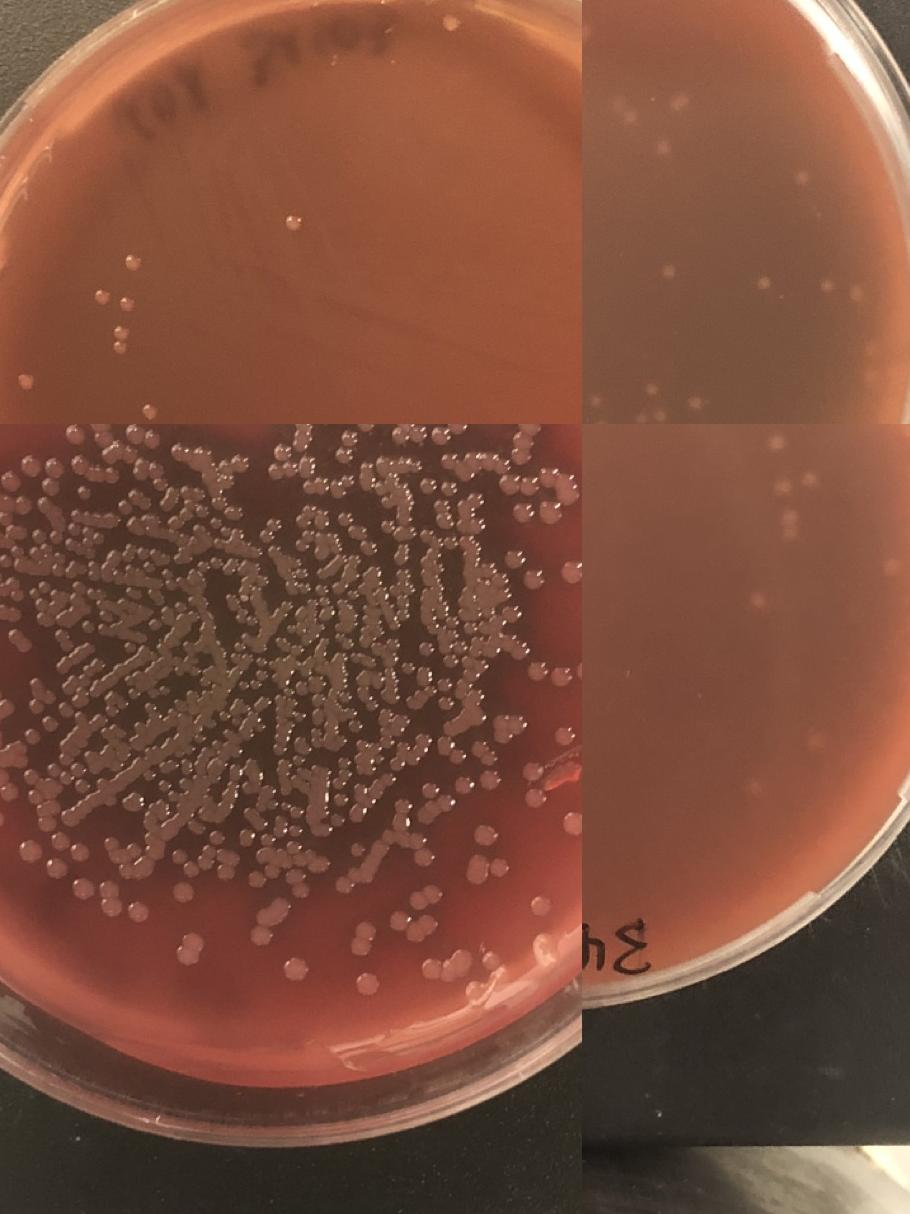pdpiscicida: (609, 90, 642, 126), (630, 404, 674, 424), (110, 321, 133, 358), (790, 166, 812, 190), (783, 510, 799, 542), (123, 252, 146, 274), (116, 290, 138, 313), (441, 14, 463, 36), (284, 214, 306, 236), (89, 286, 111, 308), (14, 370, 36, 392), (139, 400, 161, 422), (668, 90, 690, 112), (655, 136, 677, 158), (657, 261, 679, 283), (753, 272, 775, 294), (847, 284, 869, 306), (638, 378, 660, 400), (684, 390, 706, 412), (582, 386, 603, 409), (818, 272, 838, 294), (588, 416, 626, 424), (809, 734, 825, 752), (747, 778, 763, 795), (751, 592, 766, 610), (582, 23, 594, 45), (882, 558, 898, 574), (774, 479, 789, 496), (802, 472, 816, 490), (769, 435, 785, 450)
vangil: (495, 460, 580, 506), (170, 828, 226, 879), (160, 485, 209, 530), (45, 751, 91, 795), (417, 780, 456, 826), (430, 479, 462, 531), (422, 950, 473, 982), (476, 604, 522, 639), (67, 508, 105, 550), (390, 910, 438, 943), (388, 570, 416, 623), (465, 854, 510, 886), (37, 458, 64, 511), (439, 452, 484, 481), (70, 456, 118, 482), (268, 443, 300, 481), (511, 424, 540, 465), (216, 456, 250, 490), (492, 714, 527, 746), (436, 734, 469, 766), (61, 797, 95, 828), (296, 504, 317, 554), (252, 907, 278, 947), (245, 864, 281, 890), (407, 884, 443, 910), (117, 488, 152, 514), (498, 632, 528, 662), (440, 652, 480, 674), (351, 921, 376, 956), (28, 688, 58, 717), (469, 739, 499, 768), (0, 749, 28, 780), (124, 424, 160, 448), (334, 428, 358, 464), (435, 673, 456, 714), (389, 424, 427, 446), (431, 424, 468, 446), (177, 933, 202, 965), (420, 530, 456, 552), (100, 880, 120, 918), (28, 581, 52, 610), (7, 627, 33, 653), (102, 834, 124, 862), (412, 731, 433, 759), (286, 823, 304, 855), (18, 838, 42, 862), (70, 877, 94, 901), (284, 958, 308, 982), (260, 516, 282, 542), (332, 474, 355, 498), (0, 545, 24, 568), (537, 502, 561, 524), (88, 424, 112, 445), (0, 685, 16, 716), (6, 576, 24, 602), (562, 560, 582, 583), (163, 574, 188, 592), (22, 455, 42, 476), (514, 504, 534, 525), (393, 796, 414, 816), (293, 430, 312, 452), (133, 456, 149, 482), (314, 584, 331, 608), (66, 425, 86, 445), (419, 475, 439, 495), (12, 496, 32, 516), (334, 508, 354, 528), (358, 538, 378, 558), (506, 548, 526, 568), (524, 571, 544, 591), (416, 639, 436, 659), (398, 658, 418, 678), (552, 667, 572, 687), (381, 685, 401, 705), (480, 770, 500, 790), (454, 776, 474, 796), (526, 788, 546, 808), (347, 804, 367, 824), (416, 846, 436, 866), (215, 863, 235, 883), (174, 883, 194, 903), (480, 950, 500, 970), (357, 974, 377, 994), (3, 472, 22, 492), (466, 492, 486, 511), (523, 762, 543, 781), (236, 829, 256, 848), (334, 875, 354, 894), (467, 985, 487, 1004), (526, 662, 546, 680), (309, 708, 327, 728), (556, 727, 574, 747), (332, 790, 350, 810), (477, 826, 497, 844), (348, 841, 366, 861), (48, 858, 66, 878), (292, 880, 310, 900), (532, 895, 550, 915), (25, 788, 44, 806), (70, 843, 88, 862), (565, 813, 582, 833), (130, 902, 147, 922), (224, 506, 242, 524), (58, 701, 76, 719), (24, 728, 42, 746), (23, 768, 41, 786), (38, 814, 56, 832), (52, 832, 70, 850), (126, 792, 142, 812), (41, 716, 59, 733), (0, 783, 17, 801), (288, 804, 305, 822), (132, 720, 148, 738), (388, 756, 404, 774), (88, 758, 104, 776), (329, 812, 345, 830), (119, 862, 135, 880), (172, 443, 188, 460), (122, 639, 138, 656), (90, 657, 106, 674), (141, 767, 157, 784), (178, 775, 194, 792), (189, 819, 205, 836), (259, 832, 275, 849), (7, 606, 22, 624), (106, 702, 120, 720), (349, 720, 365, 734), (158, 762, 174, 776), (166, 790, 182, 804), (409, 459, 423, 474), (372, 482, 387, 496), (380, 496, 394, 511), (128, 842, 142, 857), (303, 480, 317, 494), (78, 485, 92, 499), (209, 516, 223, 530), (126, 518, 140, 532), (380, 520, 394, 534), (32, 528, 46, 542), (50, 530, 64, 544), (210, 556, 224, 570), (142, 560, 156, 574), (71, 581, 85, 595), (279, 600, 293, 614), (148, 620, 162, 634), (154, 478, 167, 492), (394, 552, 407, 566), (36, 613, 49, 627), (82, 621, 96, 634), (55, 630, 68, 644), (104, 513, 116, 527), (346, 588, 358, 602), (172, 599, 184, 613), (357, 424, 377, 432), (316, 516, 328, 528), (0, 806, 5, 830), (0, 725, 4, 751), (578, 661, 582, 680)
